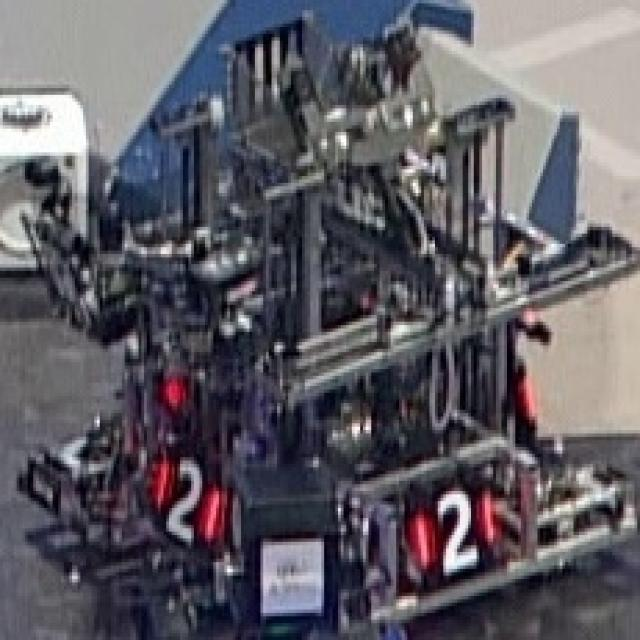R2: (413, 481, 496, 572), (152, 454, 222, 538)
